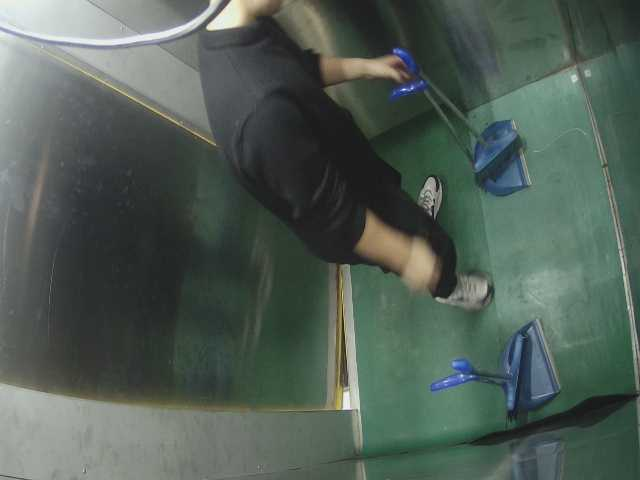broom: (382, 48, 547, 201), (413, 318, 575, 429)
person: (196, 1, 519, 309)
